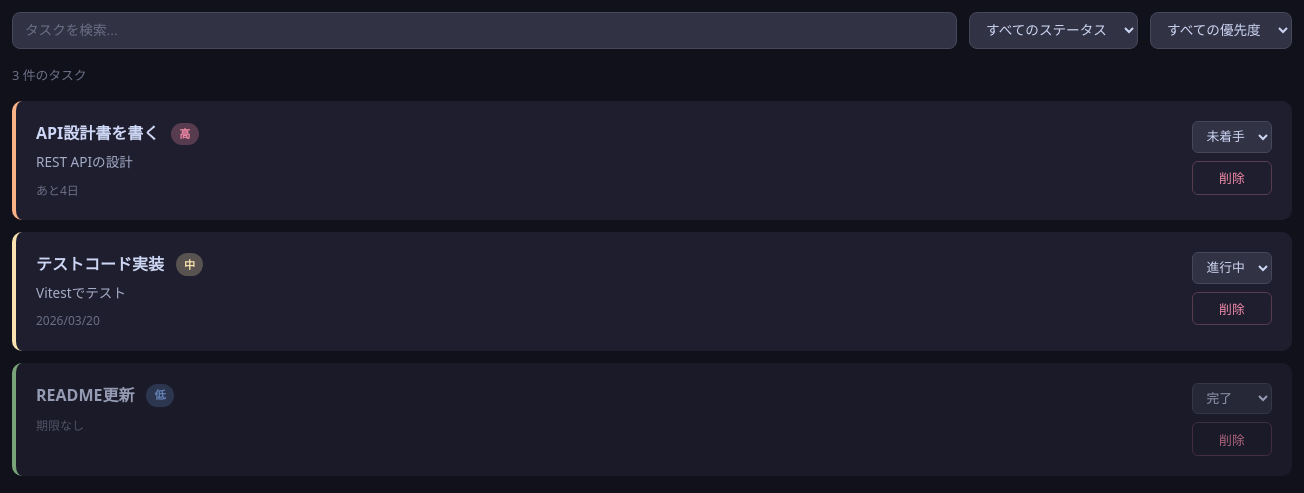
it: TaskList.vue › ステータスフィルター › "未着手" で絞り込める
Step 1. Select "未着手" in the dropdown with test id "status-filter" → (1054, 30), box 969,12 -> 1138,49
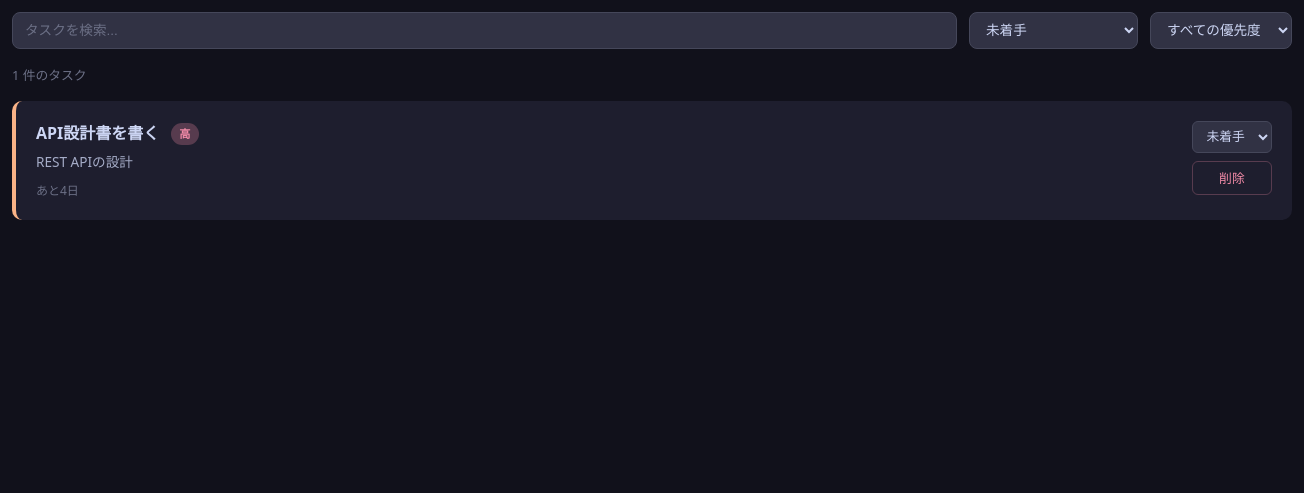
Check: the text with test id "task-count" shows "1", box 12,66 -> 87,84
